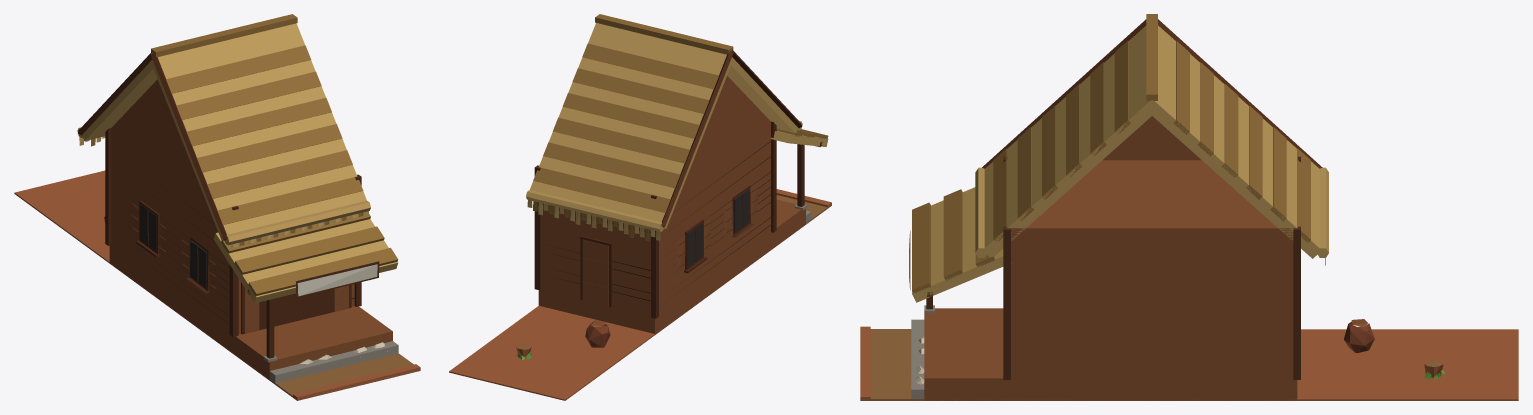
File: bay2_left.glb
3 renders of one model, left to right at view 1: azimuth 30°, elevation 25°; view 2: azimuth 150°, elevation 25°; view 3: azimuth 270°, elevation 25°, orthographic. The views are drawn at different scales.
Visible parts, largest first — view 1: body, windows; view 2: body, windows; view 3: body.
Part boxes in pixels (x1,y1,x2,y2): body: (14, 14, 420, 400); windows: (140, 204, 206, 287); body: (449, 14, 831, 400); windows: (687, 188, 749, 266); body: (860, 14, 1518, 400).
Bounding box in the file's own units: 4.78 × 8.46 × 15.9.
